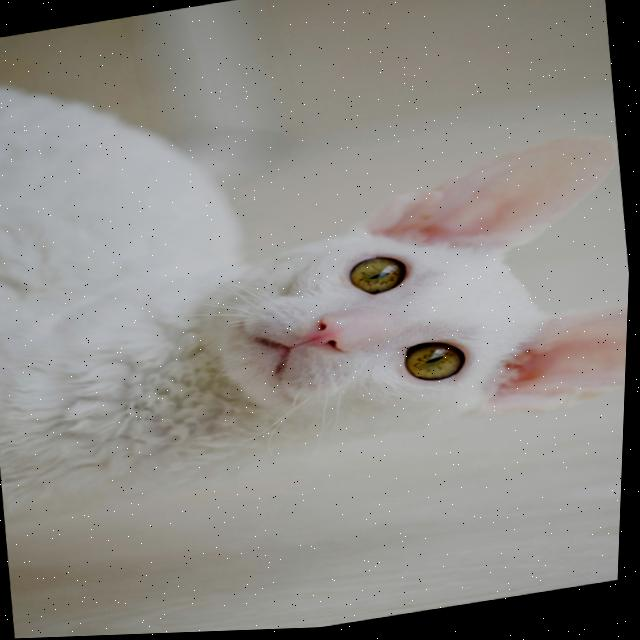Cornish Rex: (0, 0, 640, 531)
